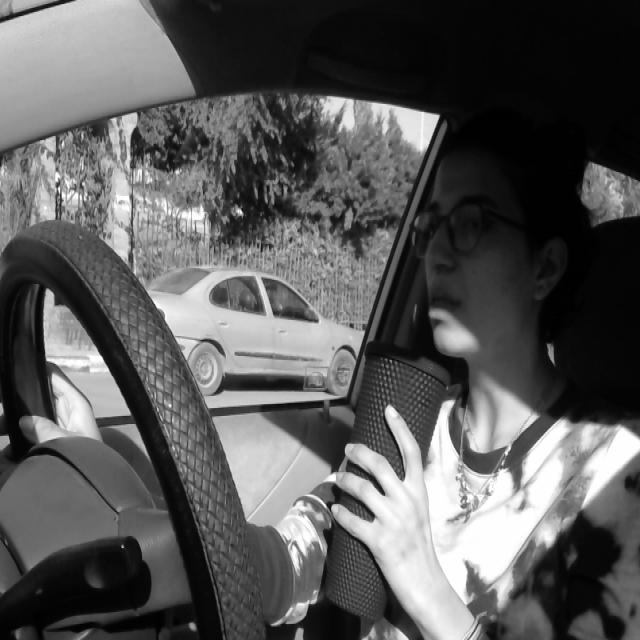drinking: (306, 296, 461, 616)
